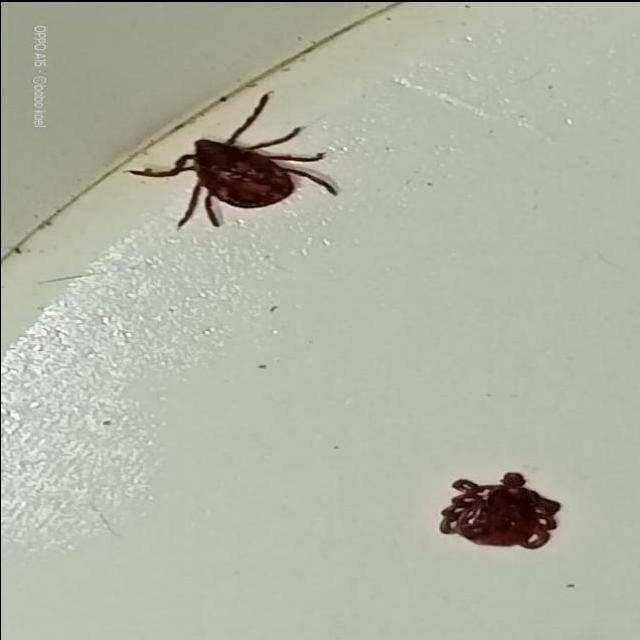Rhipicephalus Sanguineus-M: (128, 92, 335, 227), (435, 469, 561, 548)
